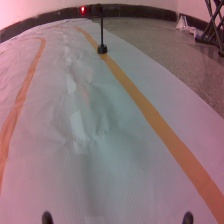red: (78, 1, 112, 58)
